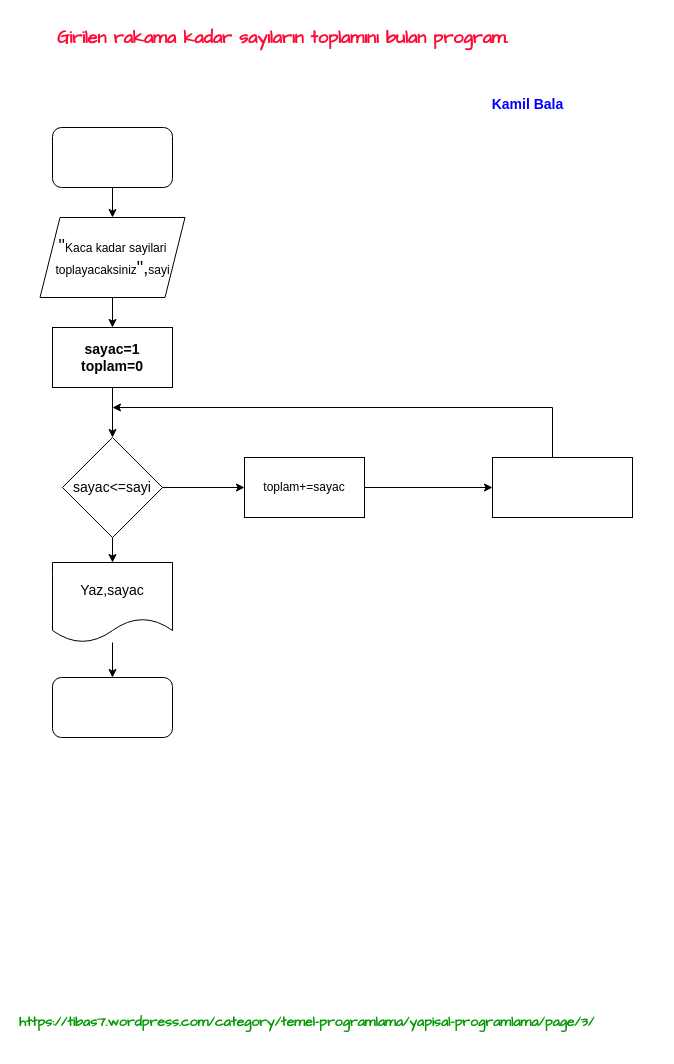
Image size: 674x1064. Some labels were removed from this diagram. Each missing label, with the centre of its shape:
"Başlat" belongs at (x=112, y=157).
"Bitir" belongs at (x=112, y=707).
"sayac=sayac+1" belongs at (x=562, y=487).
